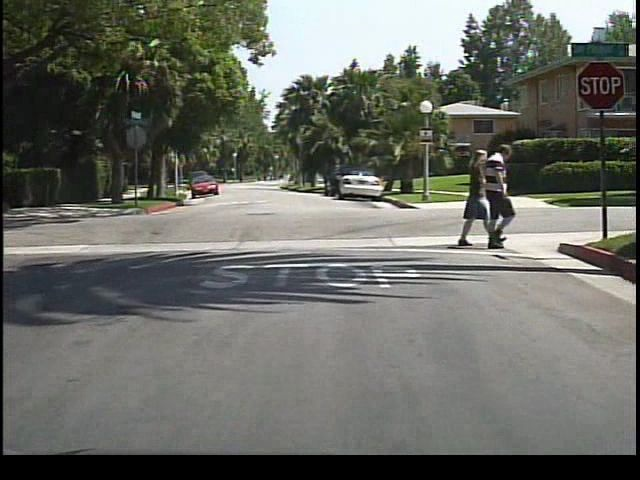person: (477, 145, 519, 252), (459, 150, 488, 247)
